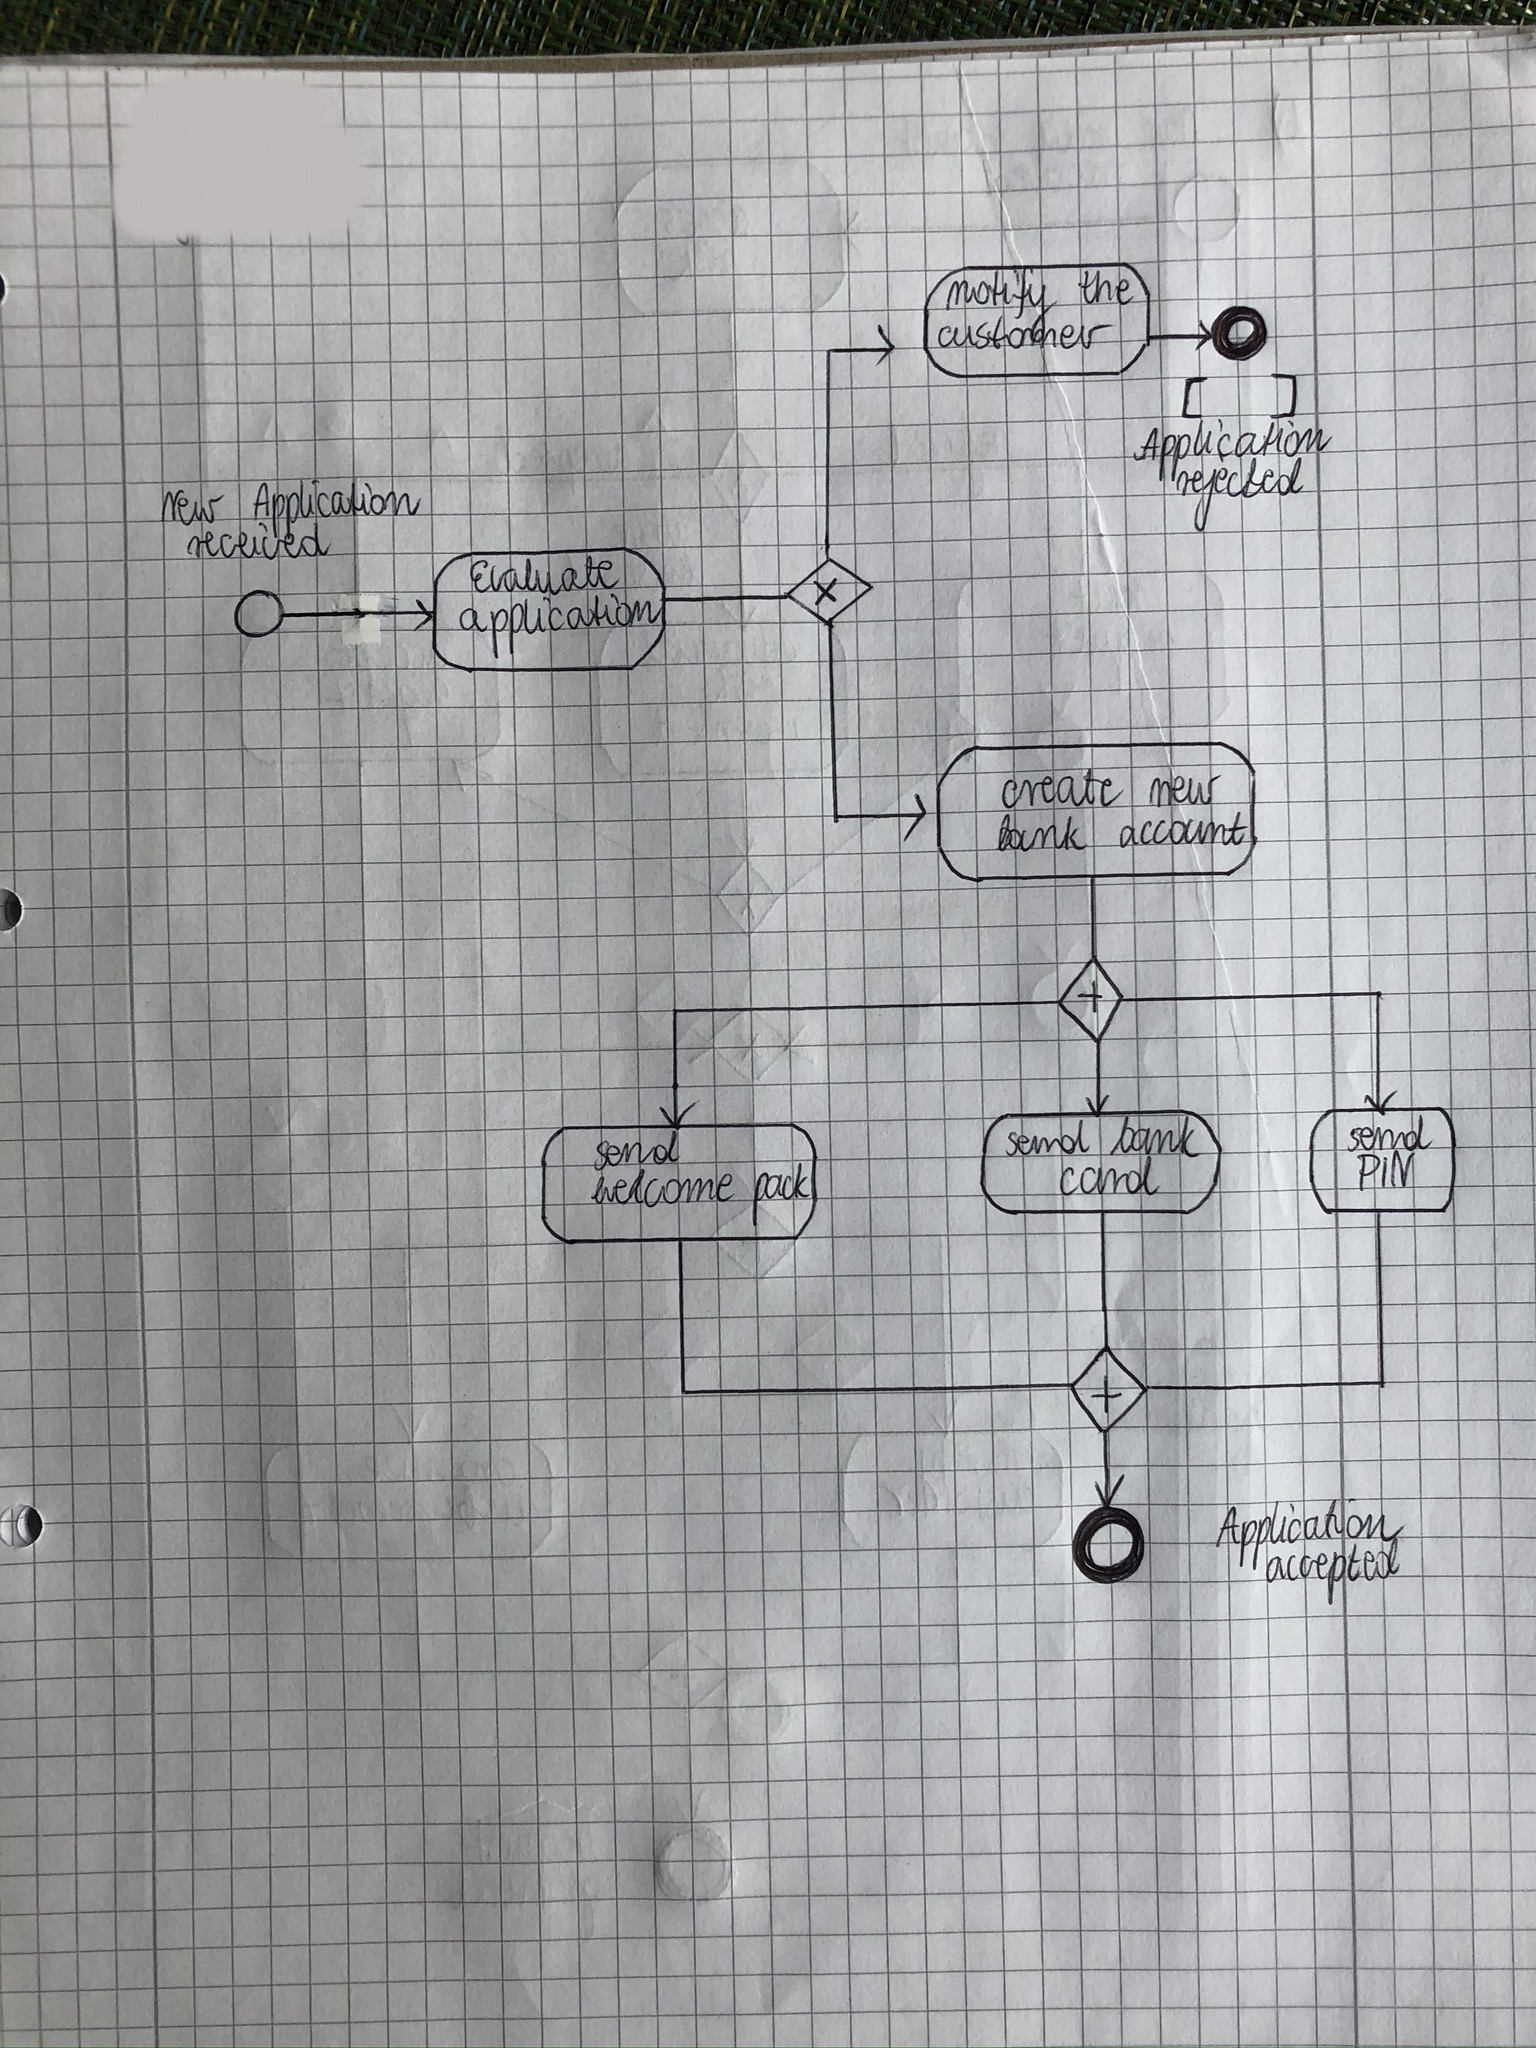Application: (1134, 414, 1331, 464), (1213, 1500, 1404, 1543), (247, 482, 424, 521)
Evaluate: (465, 555, 620, 595)
New: (155, 484, 227, 527)
PIN: (1350, 1151, 1428, 1193)
accepted: (1263, 1542, 1405, 1605)
account: (1120, 813, 1249, 851)
application: (453, 593, 662, 655)
bank: (1105, 1114, 1202, 1156), (992, 814, 1089, 856)
card: (1058, 1155, 1160, 1200)
create: (999, 768, 1133, 813)
customer: (937, 318, 1113, 355)
new: (1147, 771, 1221, 811)
notify: (949, 273, 1058, 313)
pack: (749, 1163, 815, 1222)
received: (186, 526, 336, 563)
rejected: (1176, 460, 1310, 526)
send: (1005, 1119, 1089, 1163), (594, 1134, 682, 1171), (1344, 1118, 1433, 1151)
the: (1075, 269, 1136, 306)
welcome: (592, 1171, 734, 1209)
